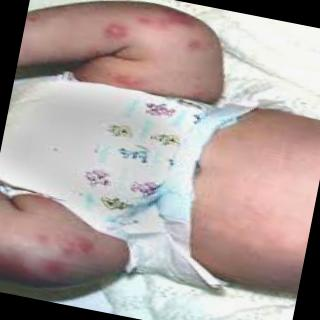urticaria: (60, 3, 210, 77), (11, 230, 96, 273)
